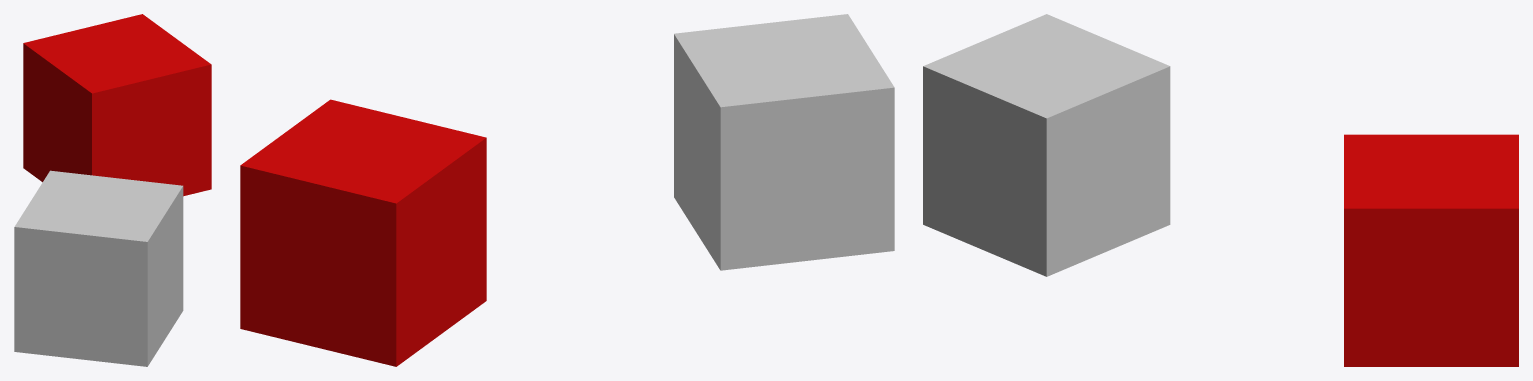
File: 50_dice_digital_twin.glb
3 views of the same model, side by side, from view 1: azimuth 30°, elevation 25°; view 2: azimuth 150°, elevation 25°; view 3: azimuth 270°, elevation 25° (orthographic). The views are drawn at different scales.
Visible parts, largest first — view 1: White_Dice_0, Red_Dice_0; view 2: Red_Dice_0, White_Dice_0; view 3: White_Dice_0, Red_Dice_0.
Boxes of the visible parts, x1,y1,x2,y2 form: White_Dice_0: [14, 170, 183, 366]; Red_Dice_0: [23, 14, 211, 196]; Red_Dice_0: [240, 99, 486, 366]; White_Dice_0: [674, 14, 894, 270]; White_Dice_0: [923, 14, 1170, 276]; Red_Dice_0: [1344, 134, 1518, 366].
Bounding box in the file's own units: 10.53 × 4 × 13.63.
